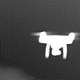plane: (29, 28, 80, 61)
